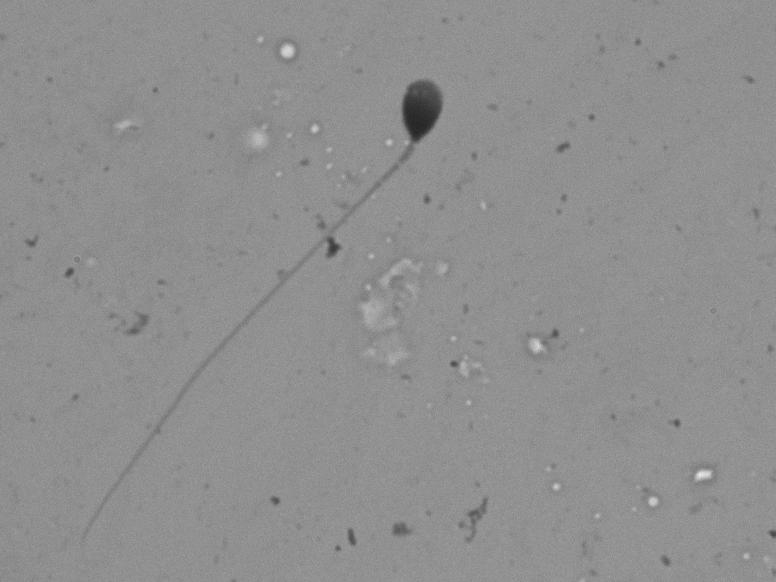Normal: (61, 71, 494, 549)
